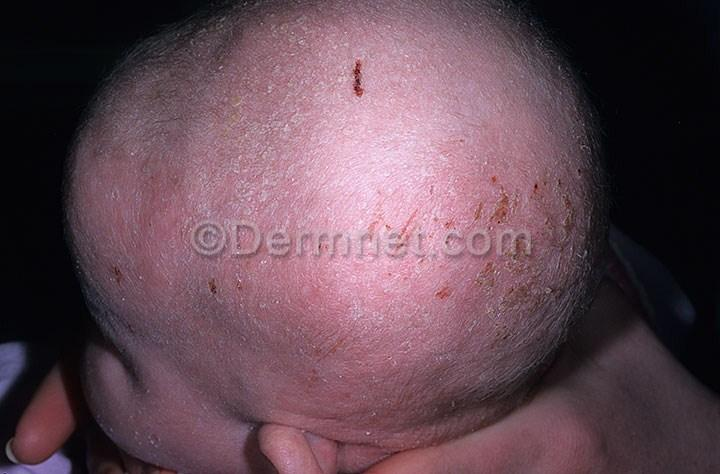xerosis 1: (81, 0, 590, 410), (344, 160, 593, 320), (347, 57, 367, 98)
